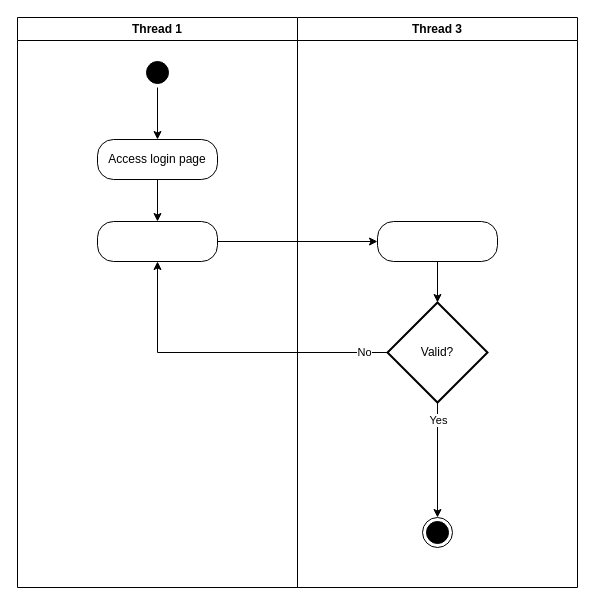
Image size: 595x605. Some labels were removed from this diagram. The shapes that lost their labels are listed below. From the top down, each one's centre as x and y in pixels, then its label:
At point (157, 241): "Enter Username, Password, Role".
At point (437, 241): "Validate".
